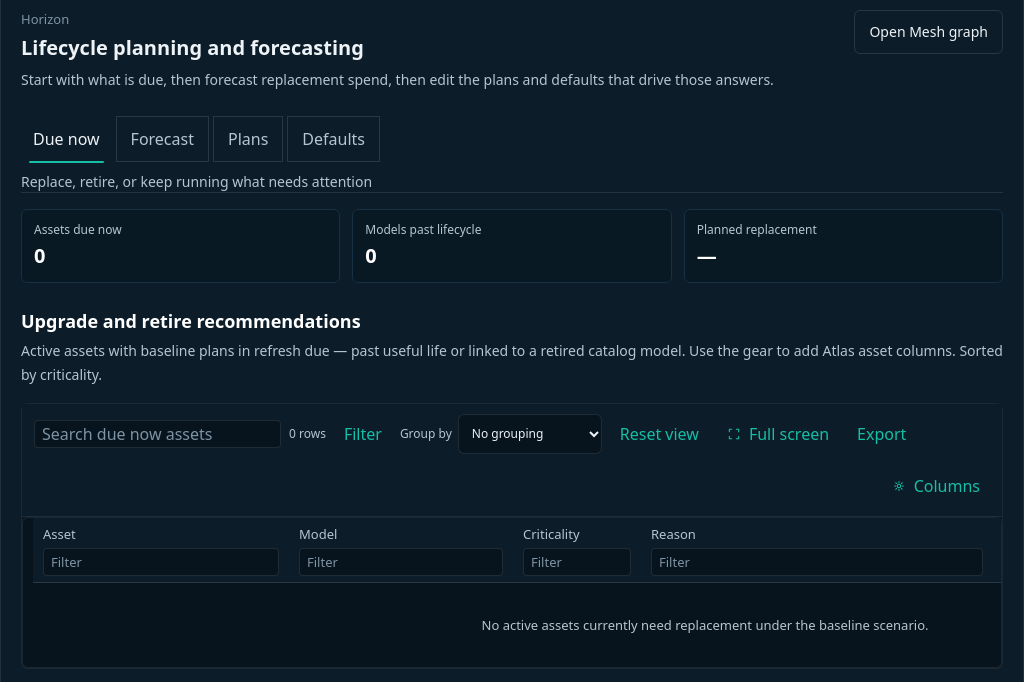
switches forecast views and charts department plus type with Other buckets
This screenshot has width=1024, height=682.
Step 1. Click the tab "Forecast" → (162, 138), box [116,116,209,162]
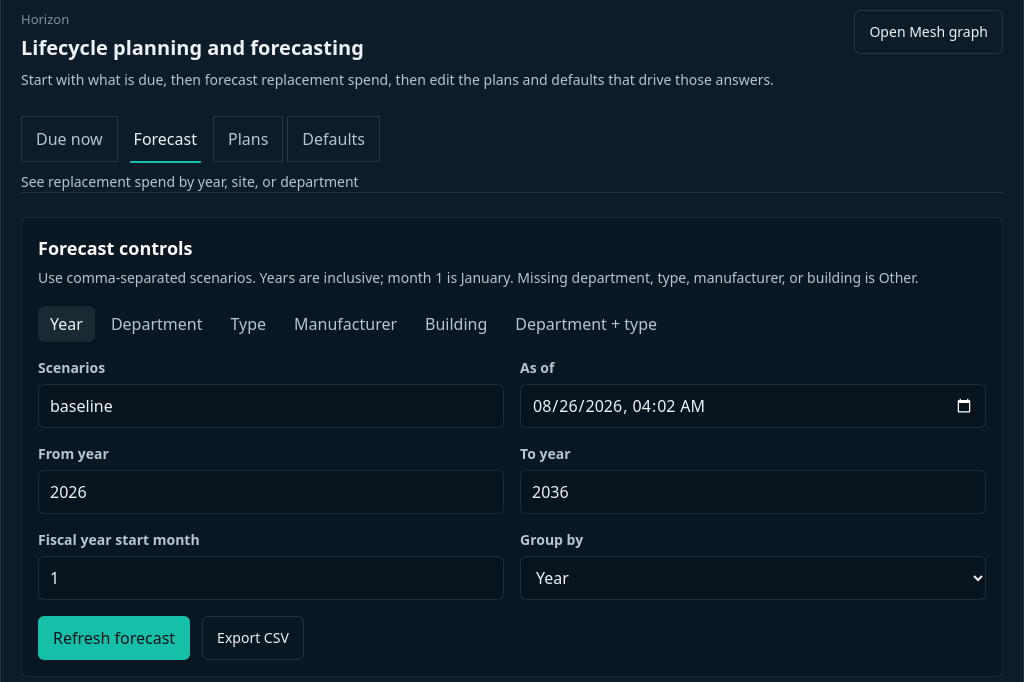
Step 2. Click the button "Type" → (248, 324), box [218,306,278,342]
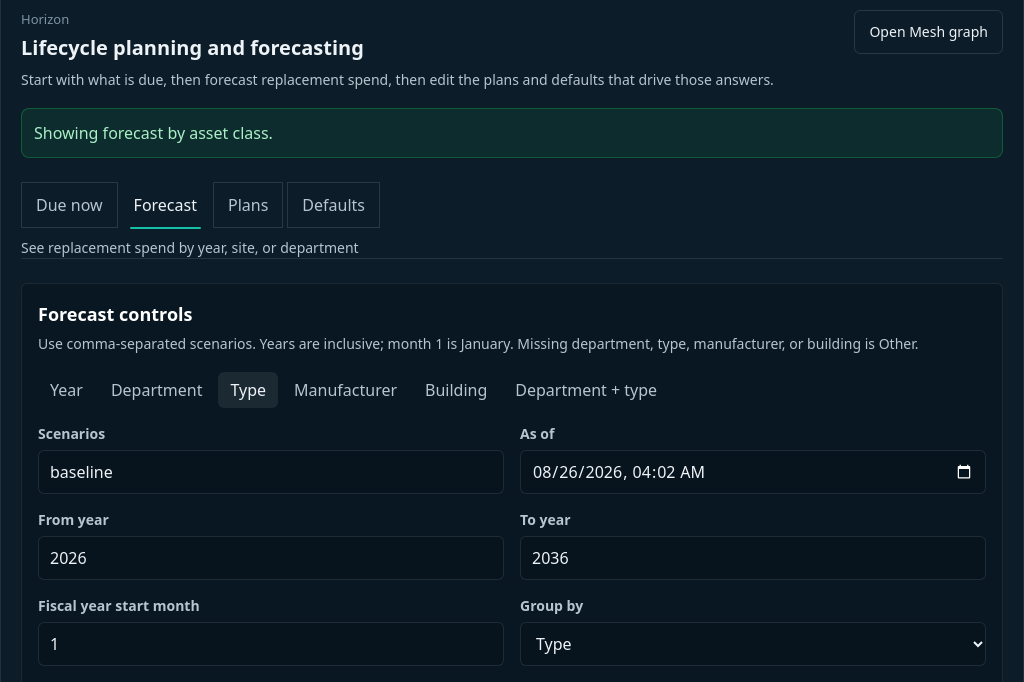
Step 3. Click the button "Manufacturer" → (346, 390), box [282,372,409,408]
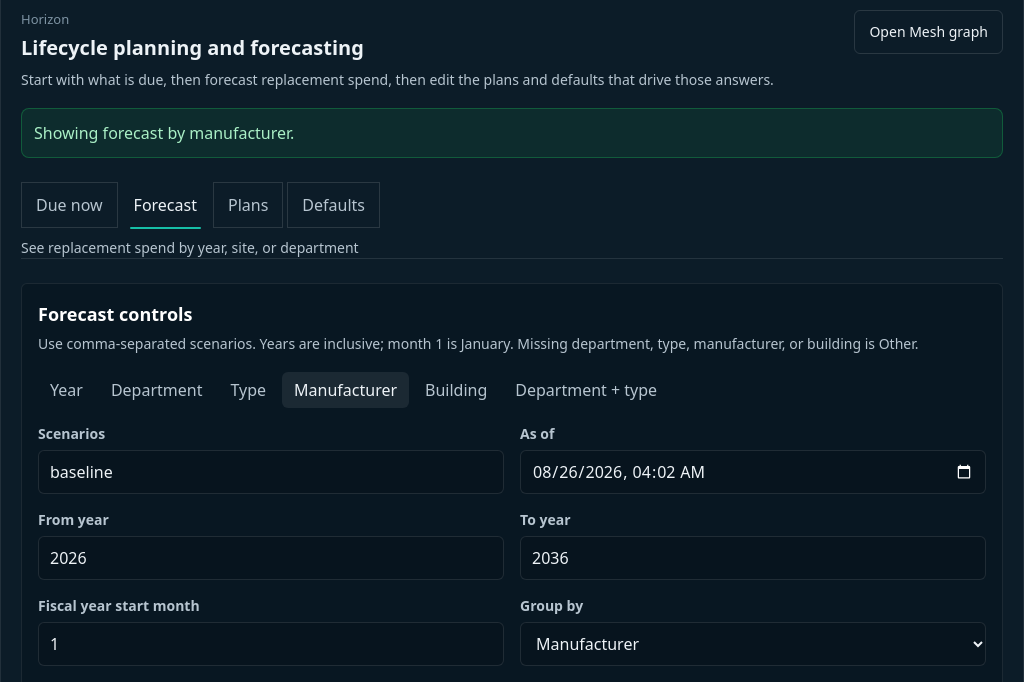
Step 4. Click the button "Building" → (456, 390), box [413,372,499,408]
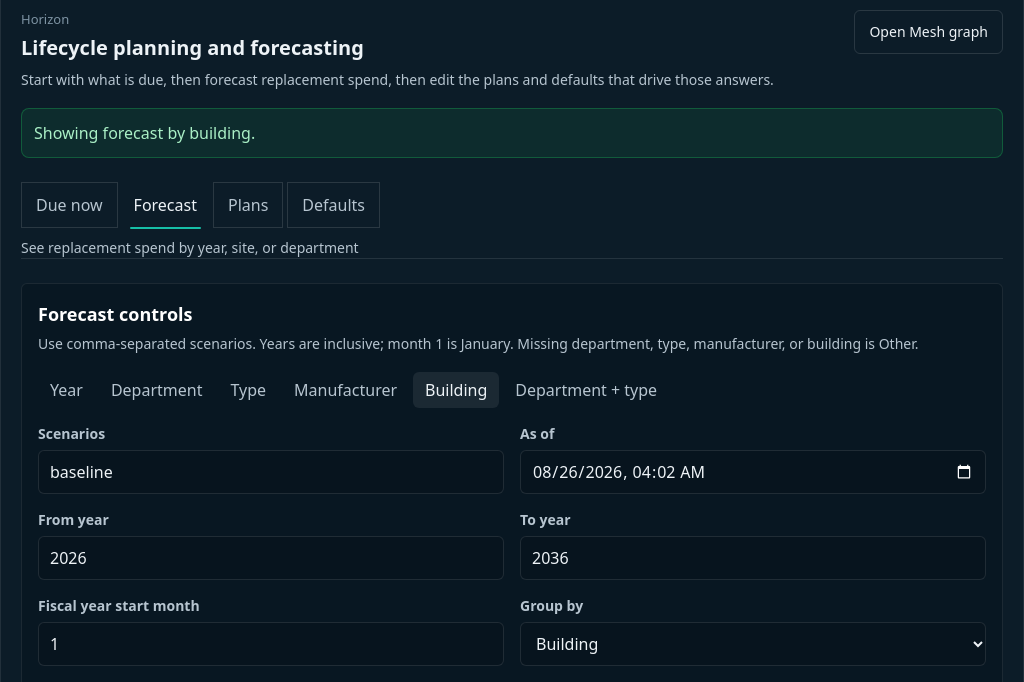
Step 5. Click the button "Department + type" → (586, 390), box [503,372,669,408]
(page scrolled)
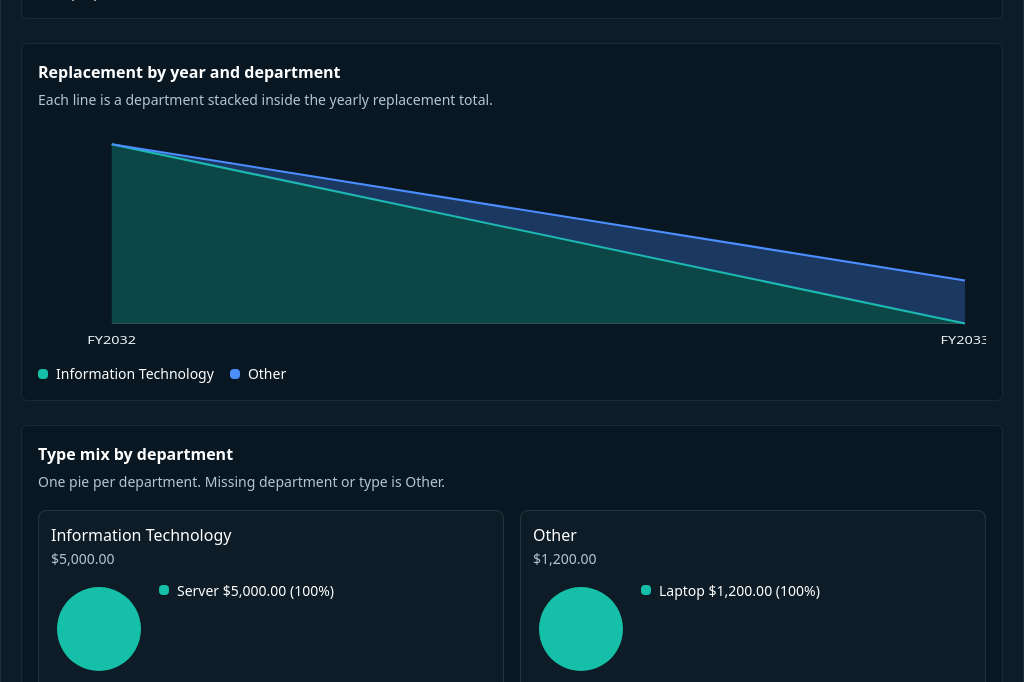
Now the heading "Replacement by year and department" is shown, box [38,60,340,82]
Now the heading "Type mix by department" is shown, box [38,442,233,464]
Now the 1st text "Information Technology" is shown, box [56,364,214,384]
